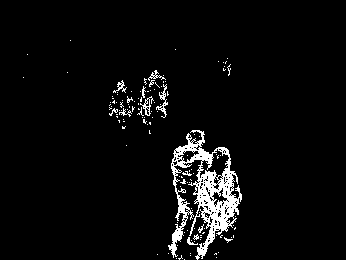person: (170, 129, 209, 252), (200, 147, 239, 255), (138, 73, 168, 128), (108, 81, 134, 132)
